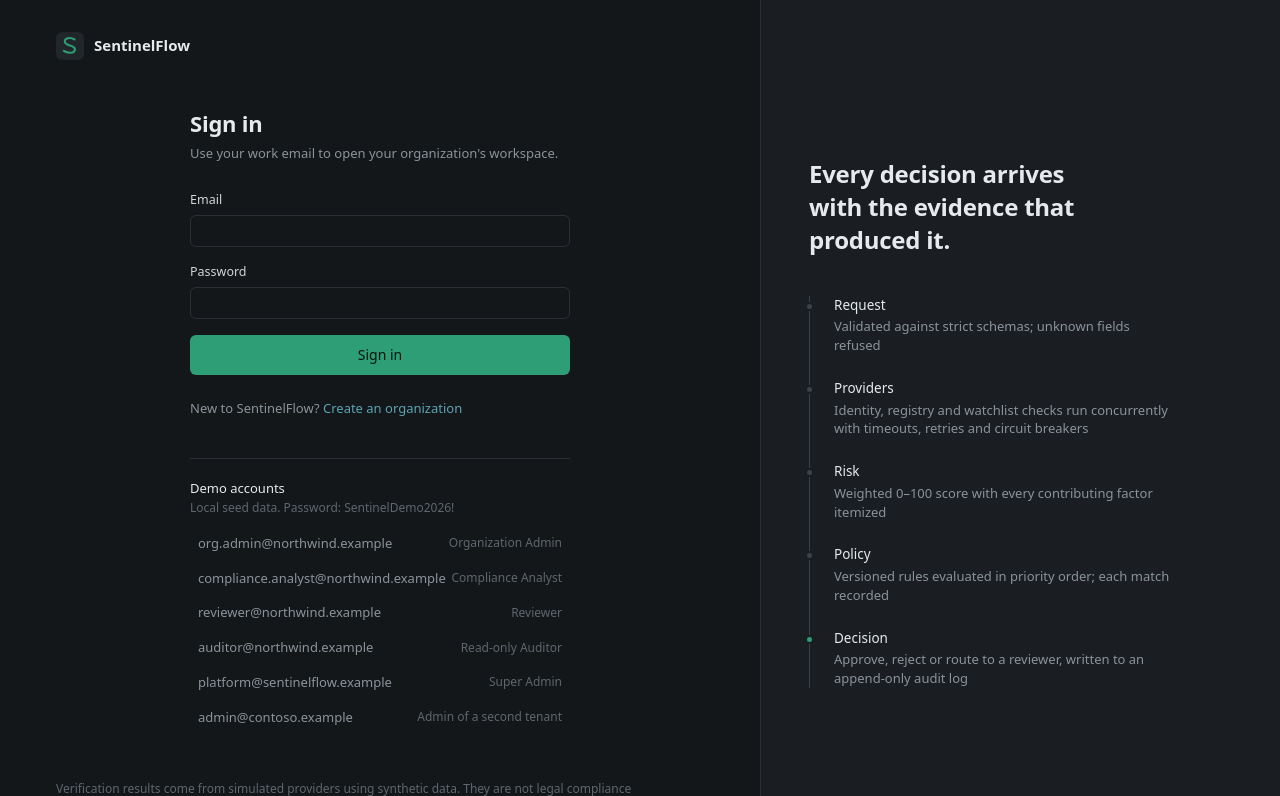
Test: login › validates before calling the API
Click the button "Sign in".
click(380, 355)  # box [190,335,570,375]
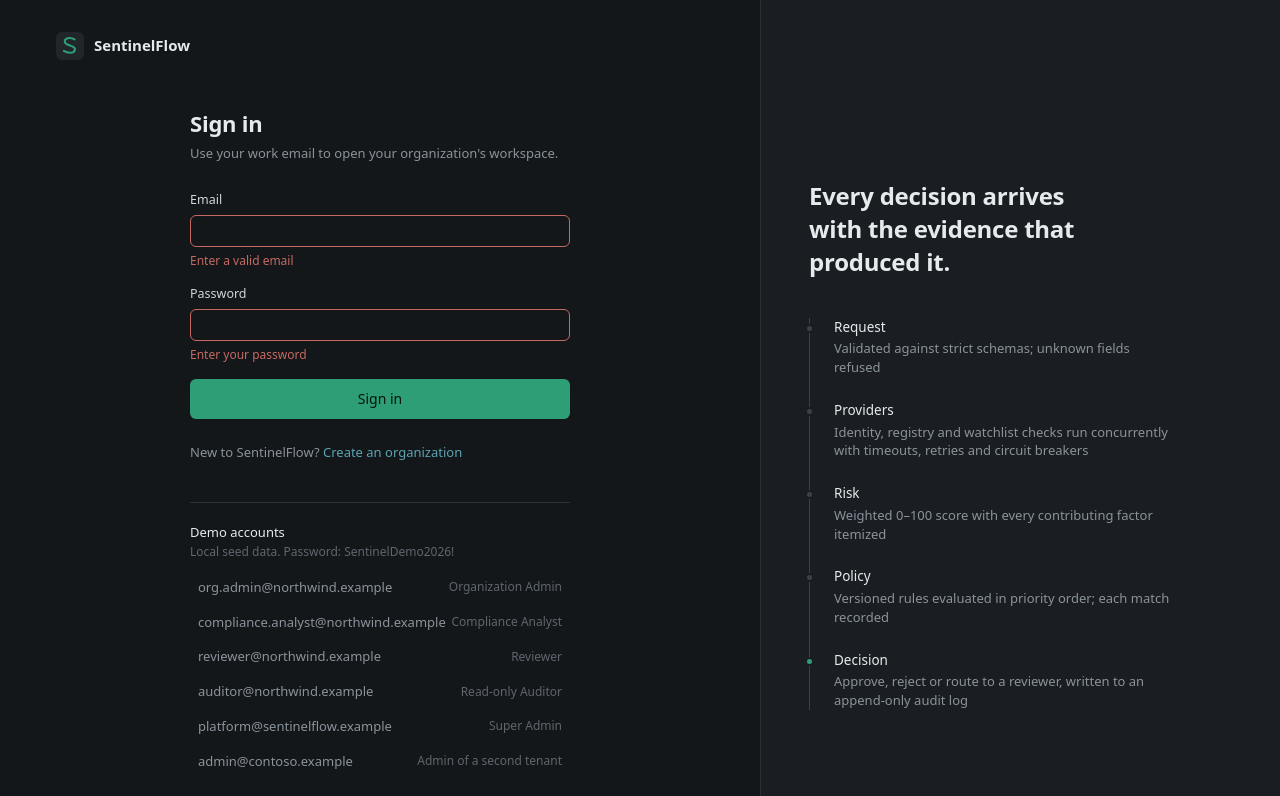
Check: the text "Enter a valid email" is shown, box [190,252,294,269]
